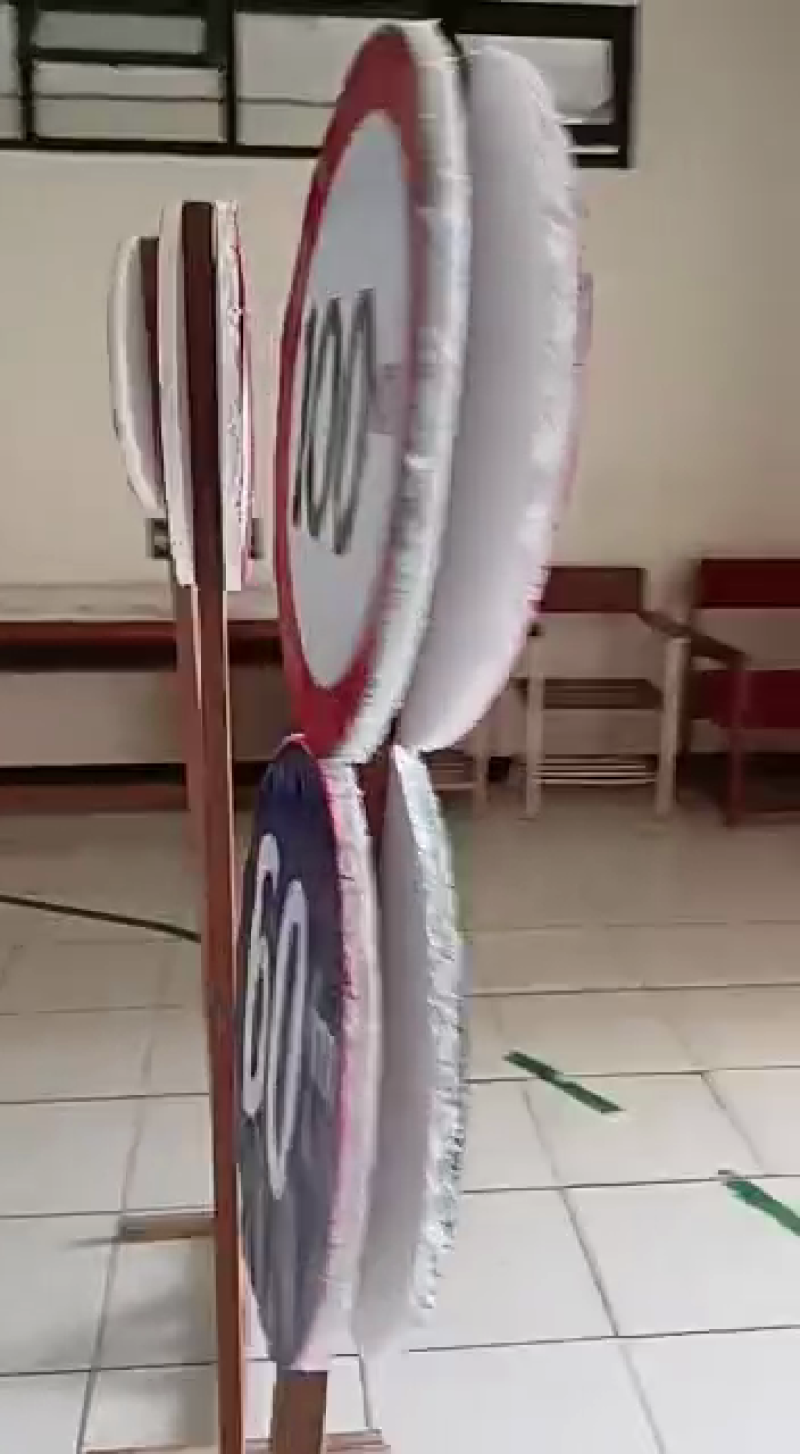batas maksimal 100kmperjam minimal 60kmperjam: (217, 1, 491, 1371)
